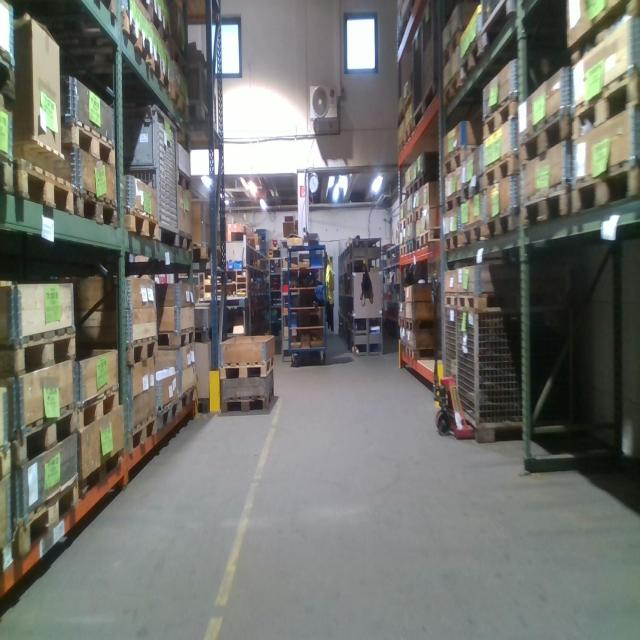pallet: (55, 13, 154, 81), (16, 474, 82, 557), (568, 3, 637, 70), (2, 321, 76, 378), (571, 72, 640, 133), (16, 400, 77, 467), (573, 154, 639, 211), (15, 152, 77, 212), (518, 104, 572, 166), (80, 440, 126, 508), (76, 383, 125, 442), (11, 1, 120, 27), (65, 114, 118, 162), (482, 91, 527, 146), (75, 184, 118, 230), (523, 181, 570, 222), (133, 59, 172, 106), (126, 326, 158, 381), (122, 410, 159, 455), (221, 384, 274, 412), (444, 25, 471, 78), (217, 354, 274, 379), (483, 147, 517, 186), (0, 42, 22, 102), (118, 210, 158, 243), (158, 322, 196, 356), (461, 294, 522, 313), (167, 77, 191, 125), (457, 38, 482, 82), (464, 168, 488, 213), (0, 139, 18, 196), (484, 206, 518, 236), (443, 144, 477, 174), (154, 396, 179, 433), (150, 7, 172, 47), (439, 73, 460, 114), (167, 36, 188, 76), (176, 384, 200, 415), (406, 342, 445, 360), (413, 170, 438, 198), (416, 200, 441, 228), (443, 193, 463, 220), (463, 219, 484, 244), (404, 318, 439, 333), (421, 224, 442, 248), (178, 229, 195, 255), (440, 289, 461, 310), (442, 230, 460, 252), (401, 182, 415, 201), (2, 439, 7, 491), (407, 238, 415, 257), (397, 243, 405, 262), (408, 211, 416, 228), (400, 216, 407, 234), (396, 313, 404, 328), (415, 236, 420, 253)
pallet_truck: (432, 272, 477, 441)
stillage: (453, 301, 580, 443), (118, 99, 183, 252), (422, 3, 446, 115), (480, 1, 521, 53), (442, 300, 457, 406), (411, 20, 423, 130)
